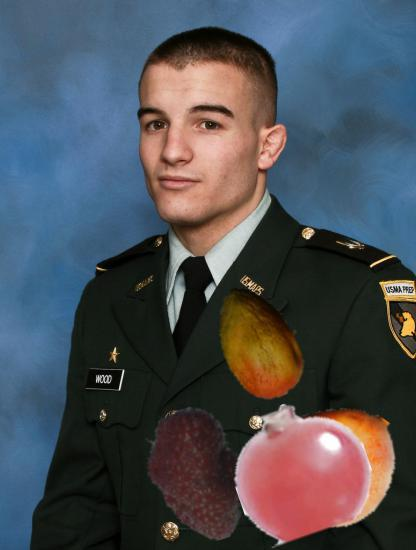Papaya: (201, 283, 319, 401)
Peach: (267, 398, 399, 530)
Redcurrant: (233, 402, 369, 538)
Strawberry: (131, 407, 268, 544)
